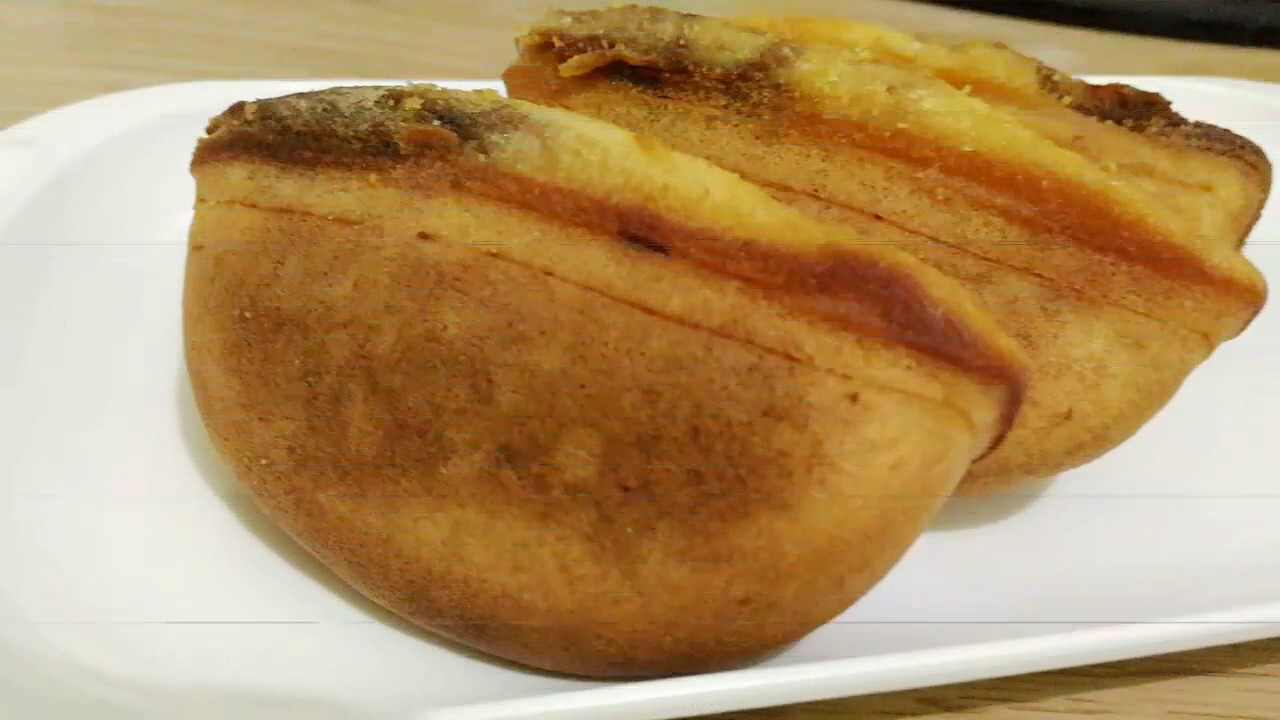pukis: (151, 69, 1029, 670)
